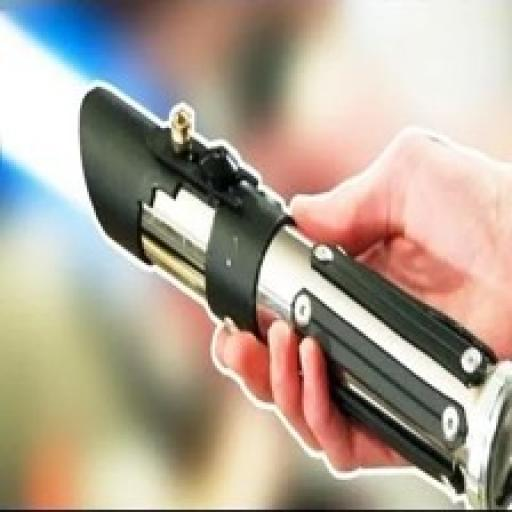lightsaber: (0, 14, 512, 510)
